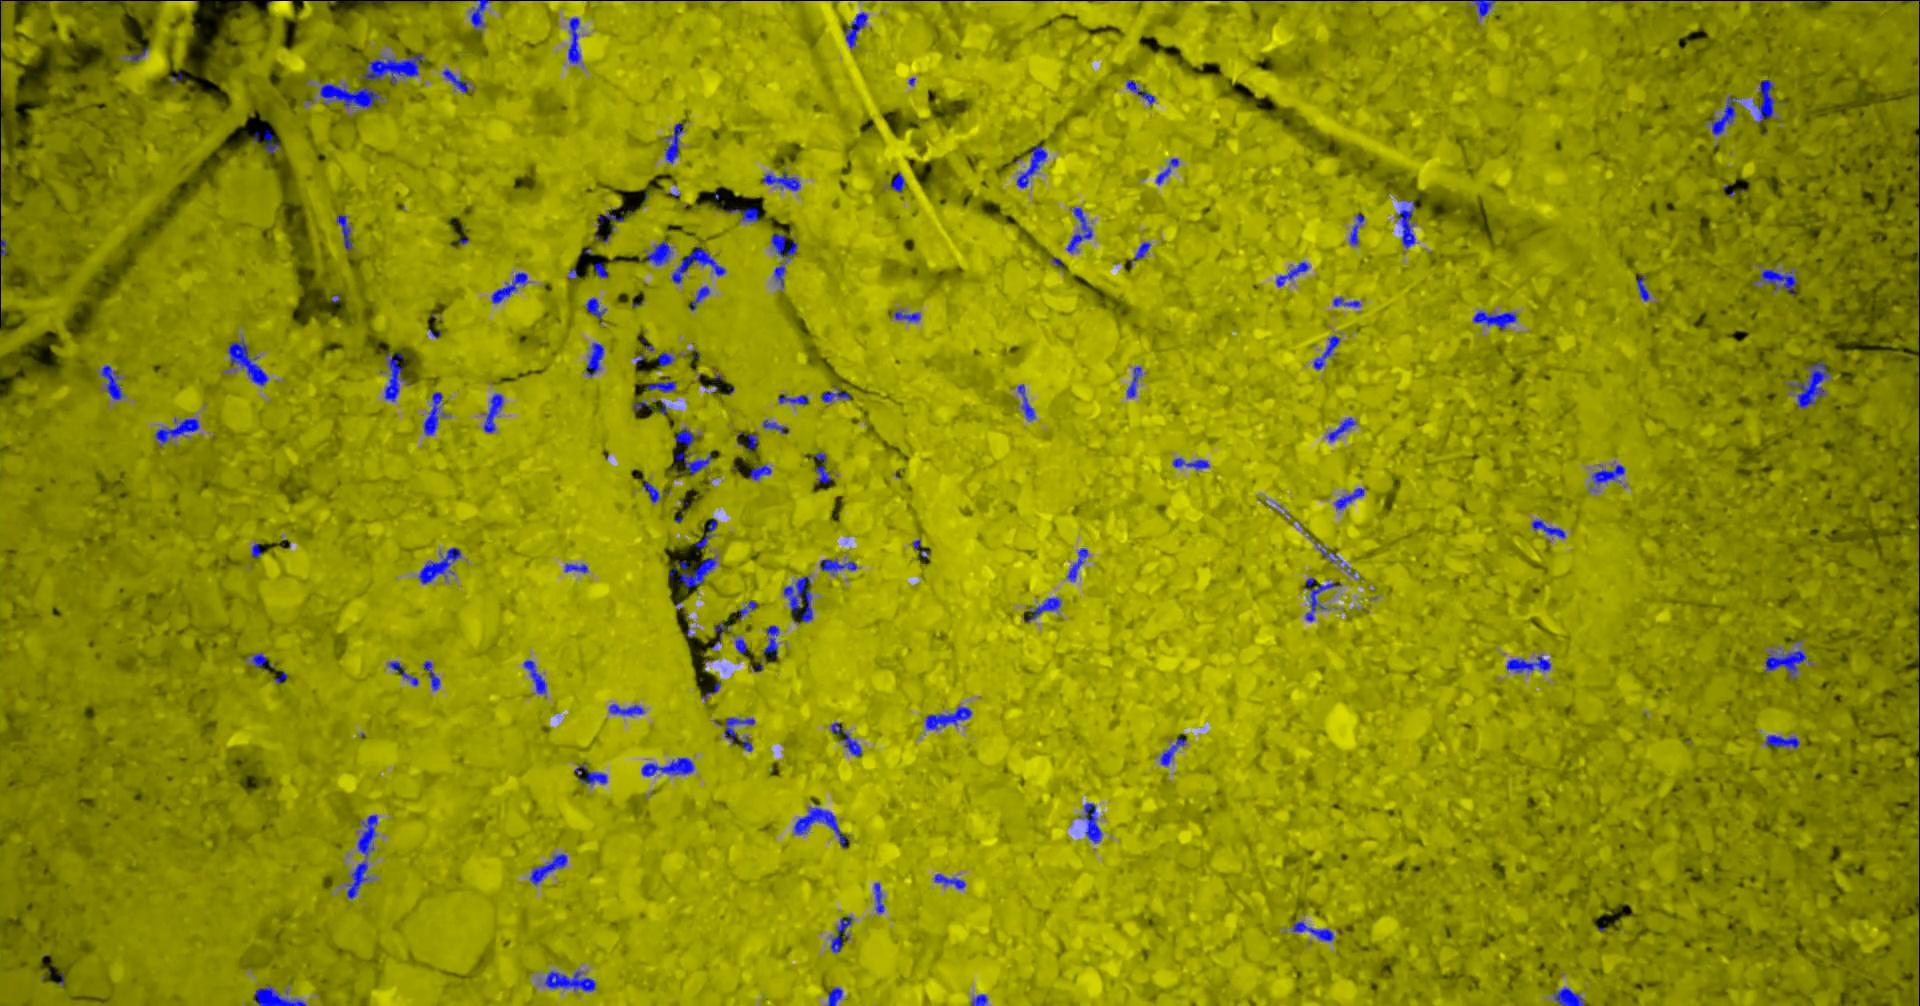ant: (792, 807, 847, 848), (670, 246, 725, 283), (1788, 359, 1829, 408), (227, 339, 268, 385), (361, 53, 423, 83), (1305, 577, 1341, 621), (319, 83, 383, 107), (418, 547, 460, 583), (1016, 144, 1046, 188), (152, 418, 199, 446), (783, 575, 811, 622), (1764, 650, 1806, 680), (1065, 207, 1092, 251), (490, 272, 527, 304), (530, 854, 568, 884), (678, 558, 716, 587), (924, 706, 971, 729), (543, 970, 596, 991), (253, 984, 305, 1005), (830, 721, 861, 756), (1709, 95, 1736, 133), (641, 757, 693, 776), (1759, 269, 1797, 295), (383, 352, 403, 401), (423, 391, 444, 434), (1312, 335, 1338, 370), (1079, 801, 1101, 843), (843, 11, 867, 48), (674, 451, 710, 475), (1025, 597, 1060, 621), (1291, 921, 1333, 941), (345, 859, 367, 898), (1472, 310, 1516, 329), (723, 716, 754, 743), (1275, 260, 1308, 286), (357, 814, 377, 855), (770, 232, 797, 262), (483, 392, 503, 432), (1398, 199, 1415, 248), (830, 915, 852, 951), (100, 365, 123, 399), (762, 170, 800, 191), (1065, 547, 1088, 580), (1126, 79, 1154, 105), (1159, 737, 1186, 765), (523, 659, 545, 694), (387, 661, 418, 685), (1506, 655, 1550, 672), (664, 122, 682, 163), (1757, 79, 1774, 122), (1326, 417, 1355, 441), (645, 240, 672, 265), (1591, 464, 1624, 484), (695, 517, 716, 547), (1017, 384, 1035, 420), (573, 765, 607, 784), (1335, 486, 1363, 509), (1531, 520, 1564, 539), (1156, 158, 1178, 184), (585, 342, 603, 376), (568, 17, 580, 64), (470, 0, 489, 30), (442, 69, 467, 91), (762, 625, 778, 659), (1553, 987, 1585, 1005), (721, 206, 758, 221), (819, 558, 856, 573), (597, 208, 623, 229), (814, 451, 830, 483), (687, 286, 709, 310), (422, 661, 439, 690), (337, 213, 350, 250), (648, 375, 676, 392), (1126, 366, 1142, 398), (933, 873, 965, 888), (731, 600, 756, 619), (608, 702, 644, 715), (1349, 213, 1363, 245), (585, 297, 606, 319), (1765, 735, 1799, 748), (1172, 457, 1209, 469), (711, 621, 728, 647), (674, 427, 695, 447), (262, 130, 279, 152), (820, 389, 851, 401), (1636, 273, 1650, 300), (762, 419, 789, 433), (1316, 547, 1342, 561), (1473, 0, 1495, 17), (251, 653, 273, 669), (748, 464, 771, 479), (872, 882, 884, 912), (643, 481, 659, 502), (778, 392, 808, 404), (127, 47, 149, 61), (1133, 243, 1150, 259), (893, 311, 919, 321), (827, 987, 842, 1005), (890, 171, 904, 191), (1333, 297, 1359, 307), (657, 352, 674, 366), (773, 265, 785, 287), (593, 260, 607, 277), (564, 563, 587, 572), (735, 638, 747, 655), (745, 433, 757, 450), (740, 735, 752, 751), (970, 995, 987, 1005), (0, 238, 8, 258), (251, 542, 262, 558)
